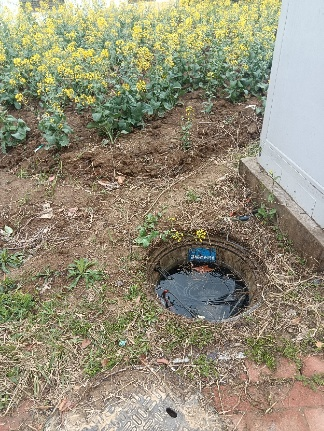lose: (141, 232, 271, 323)
